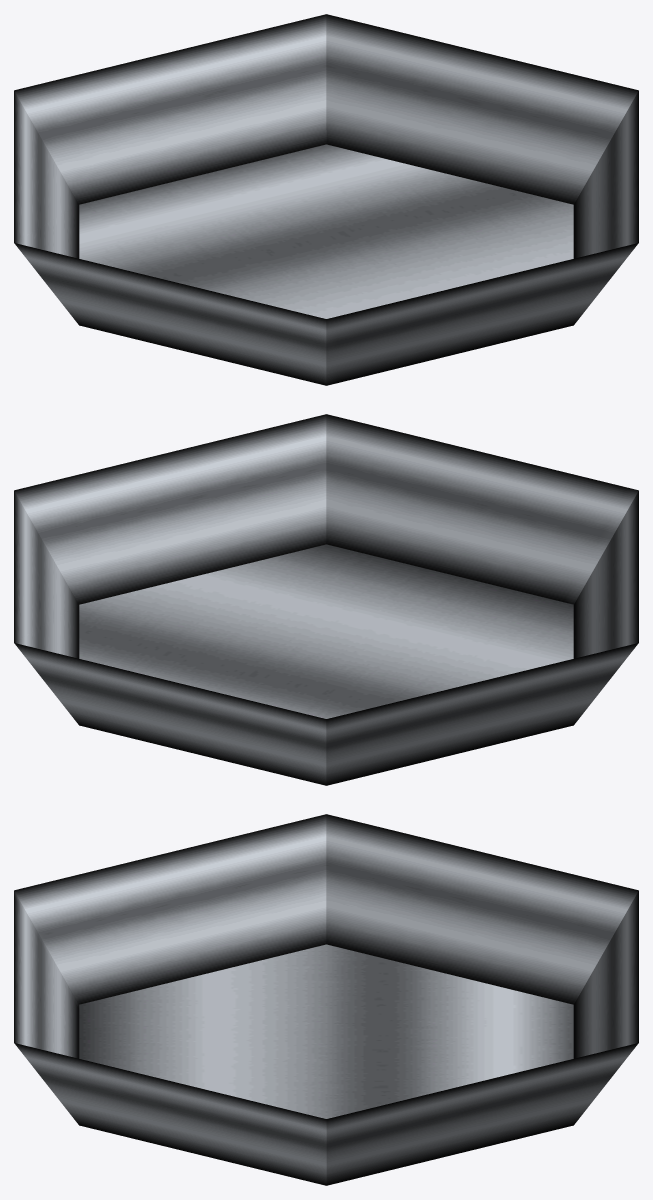
File: Schüssel_Flach_2289.glb
The picture shows the model from 3 angles, top to bottom: view 1: azimuth 30°, elevation 25°; view 2: azimuth 150°, elevation 25°; view 3: azimuth 270°, elevation 25°; orthographic projection.
Parts seen in each view (by area): view 1: pCylinderShape20; view 2: pCylinderShape20; view 3: pCylinderShape20.
Part boxes in pixels (bbox=[...]): pCylinderShape20: bbox=[14, 14, 638, 385]; pCylinderShape20: bbox=[14, 414, 638, 785]; pCylinderShape20: bbox=[14, 814, 638, 1185].
Bounding box in the file's own units: 0.0601 × 0.00905 × 0.052.
1 material, 1 textured.
